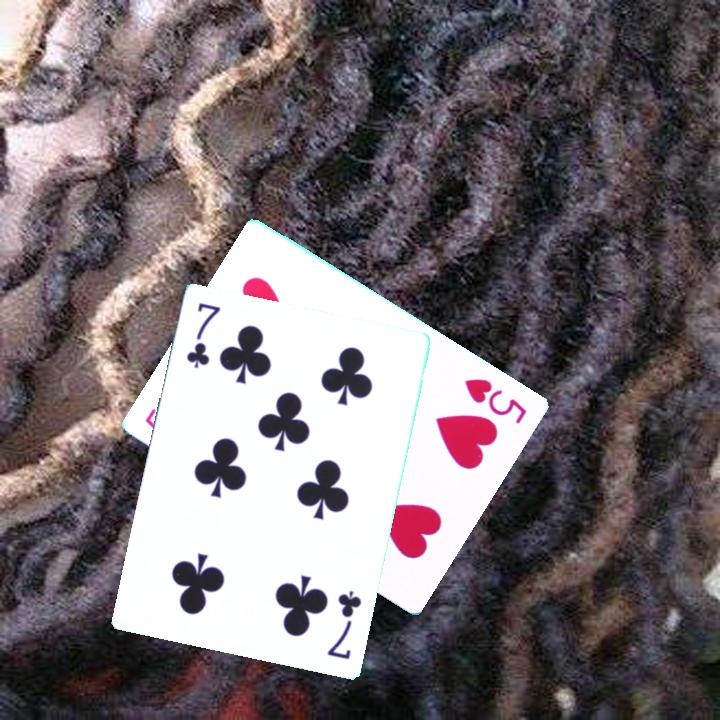5h: (461, 374, 531, 427)
7c: (324, 587, 365, 663), (183, 299, 223, 372)
